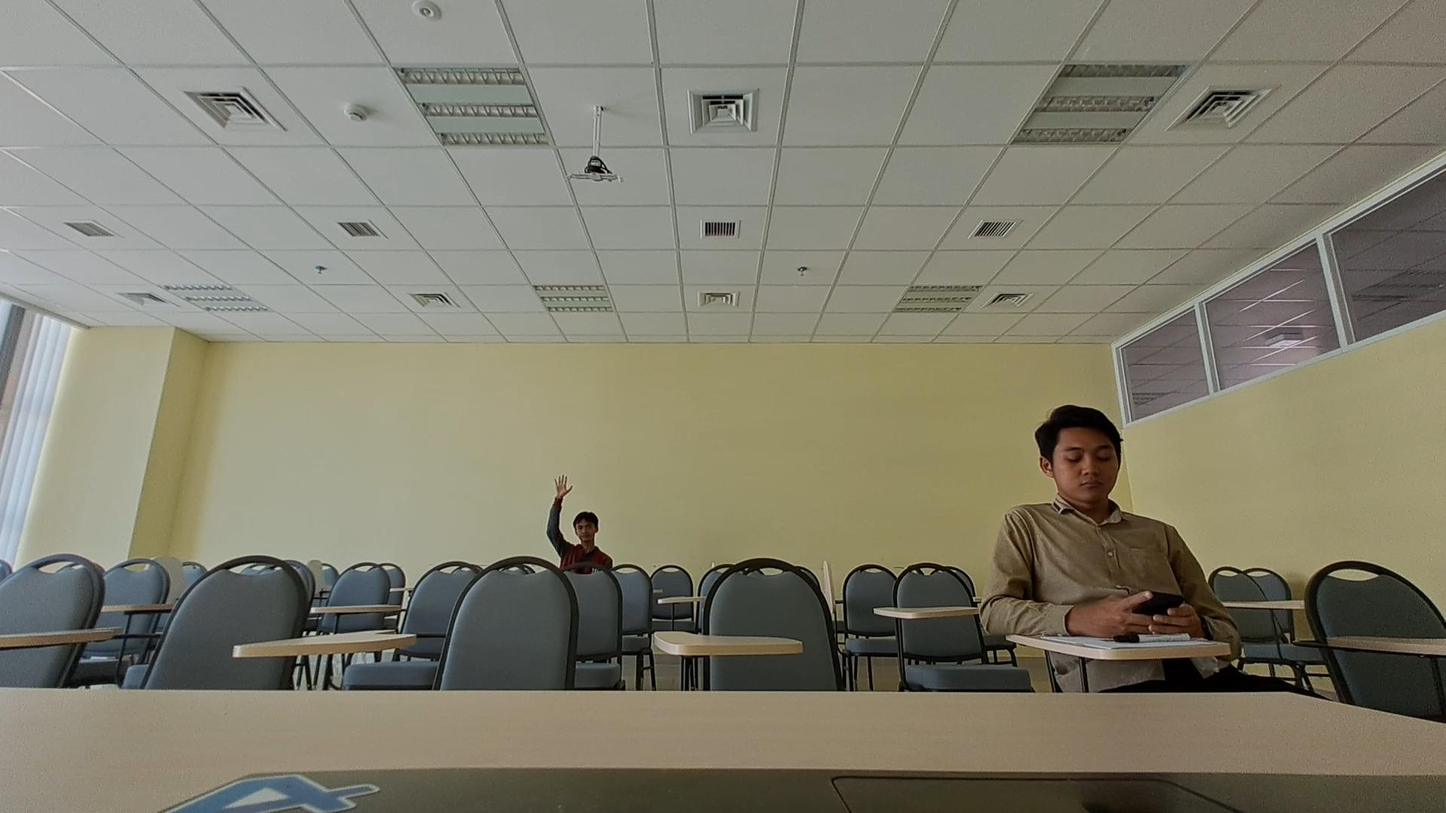phone: (981, 401, 1238, 645)
study: (539, 476, 615, 582)
